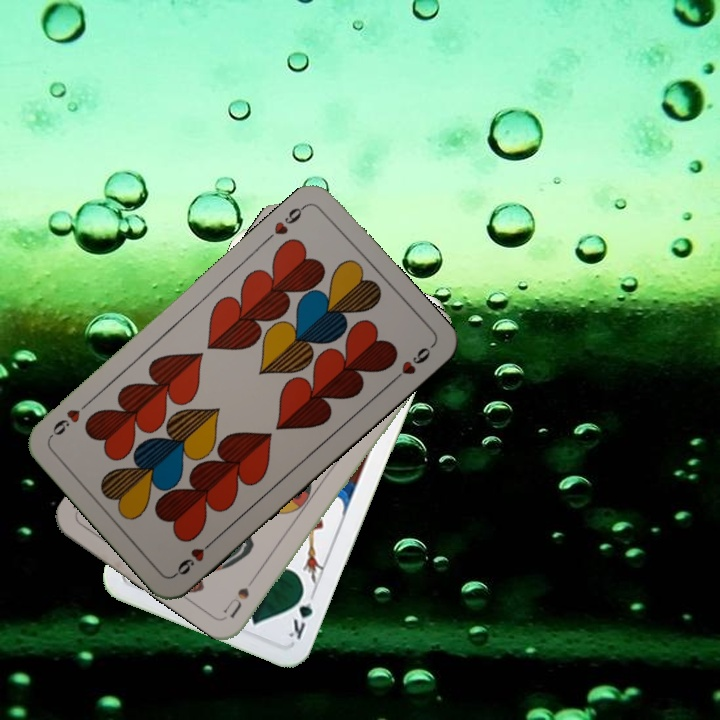GK: (284, 585, 315, 642)
H9: (170, 534, 218, 579), (269, 200, 309, 238)
SU: (220, 566, 263, 620)
